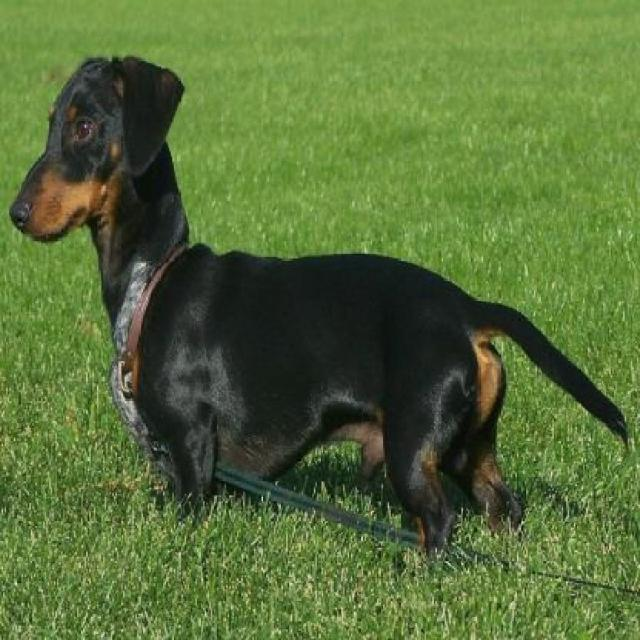Dog: (8, 51, 630, 564)
